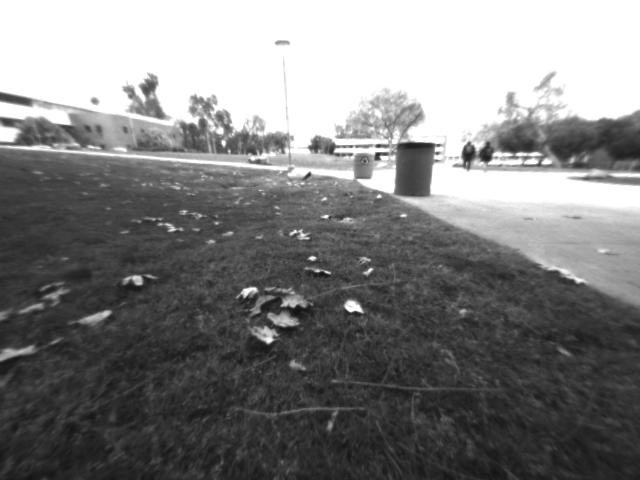trashcan: (394, 140, 431, 198), (351, 150, 374, 178)
